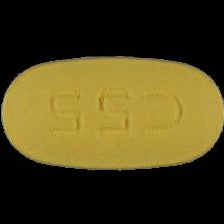16590-322: (0, 0, 224, 224)
